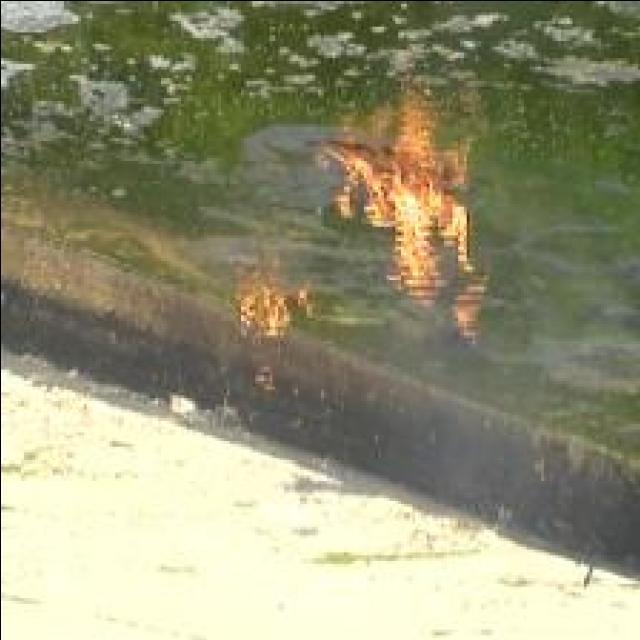Fire: (322, 143, 484, 343), (232, 289, 312, 337)
